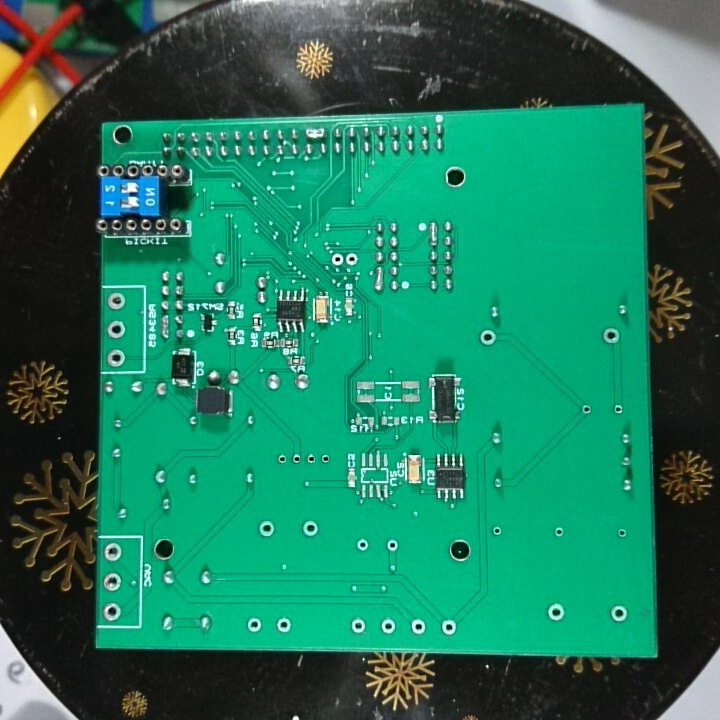F: (102, 569, 125, 592), (101, 540, 124, 563), (477, 328, 501, 350), (101, 599, 123, 623), (106, 346, 129, 368), (105, 289, 128, 311), (545, 600, 567, 622), (438, 618, 461, 639), (301, 518, 321, 542), (601, 324, 621, 346), (407, 615, 427, 637), (106, 317, 128, 337), (378, 616, 398, 637), (256, 517, 276, 538), (609, 603, 628, 625), (349, 615, 367, 637), (354, 534, 371, 555), (275, 616, 293, 635), (244, 615, 263, 633), (328, 250, 345, 269), (345, 250, 362, 268), (490, 522, 506, 541), (612, 525, 630, 540), (610, 401, 627, 416), (385, 537, 399, 555), (318, 450, 332, 468), (579, 401, 593, 418), (552, 523, 567, 538), (304, 450, 317, 465), (290, 450, 302, 466), (276, 451, 288, 466)
P: (371, 263, 387, 294), (303, 124, 328, 140), (426, 220, 440, 246), (159, 312, 172, 340)
